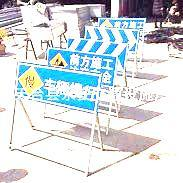sign: (17, 68, 99, 112), (46, 49, 114, 68), (99, 18, 144, 28)
